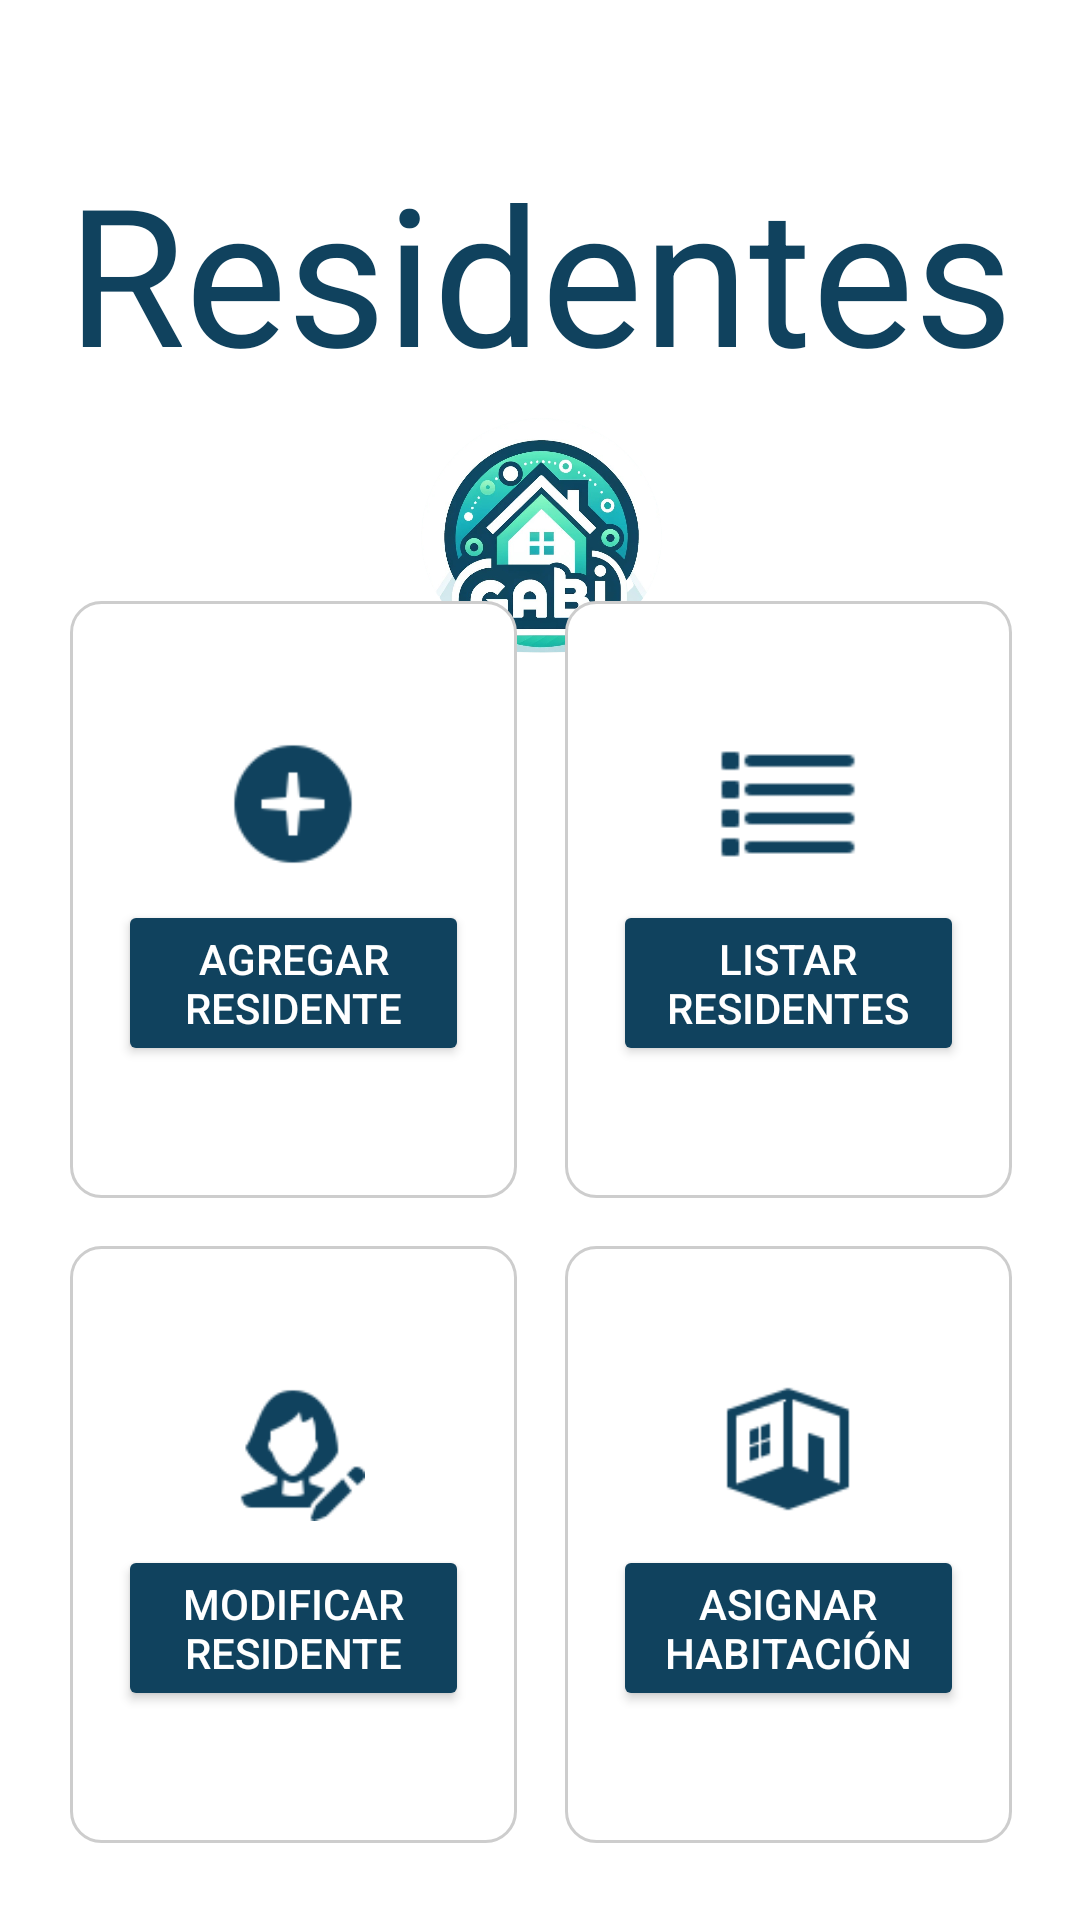

Locate icon controls on the screen. Image size 1080 × 1920, boxes as (x1, y1, x2, y2).
add: (234, 745, 352, 863)
editar usuario: (240, 1390, 365, 1521)
habitacion: (726, 1387, 850, 1511)
